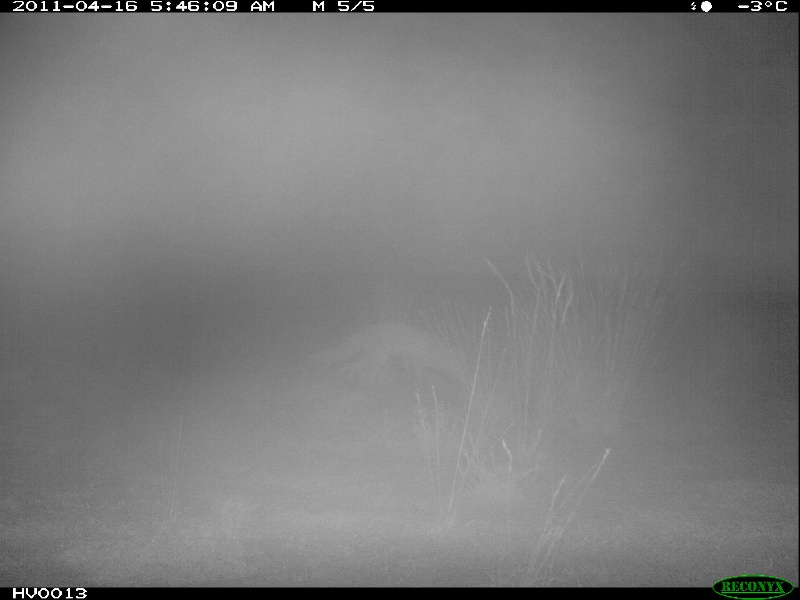fox: (309, 320, 483, 390)
